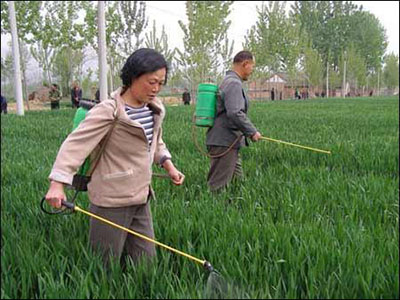berrl: (65, 97, 96, 191), (194, 82, 220, 128)
